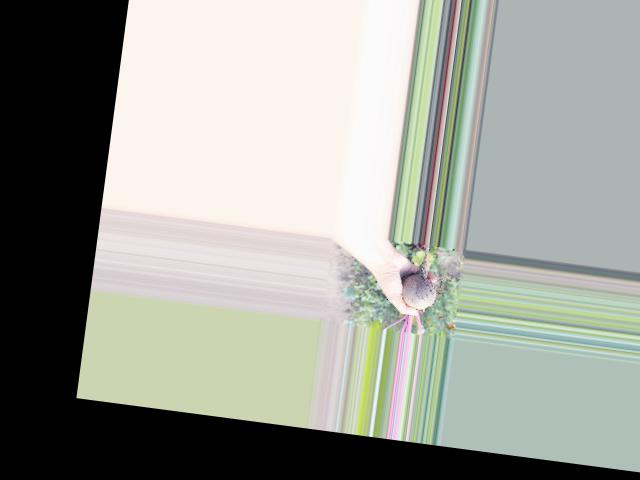beet: (382, 239, 456, 337)
